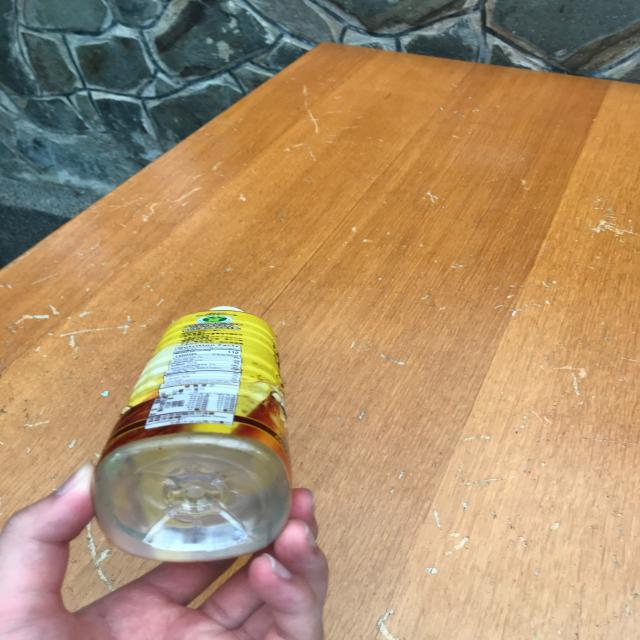plastic_bottle: (91, 306, 291, 562)
